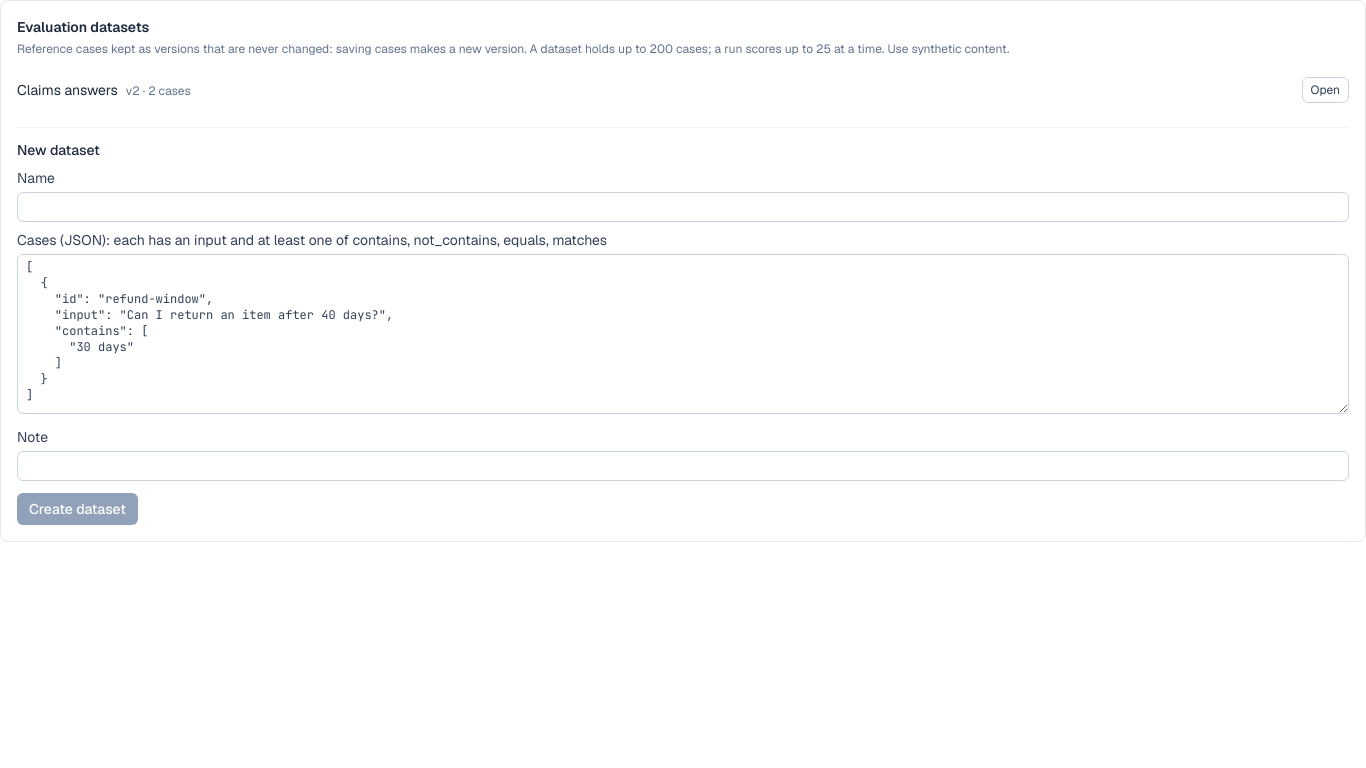
EvalDatasets › offers no run where prompt evaluation is off
Click the button with test id "eval-dataset-open-d1" at [1325, 90], box 1302,77 -> 1349,103
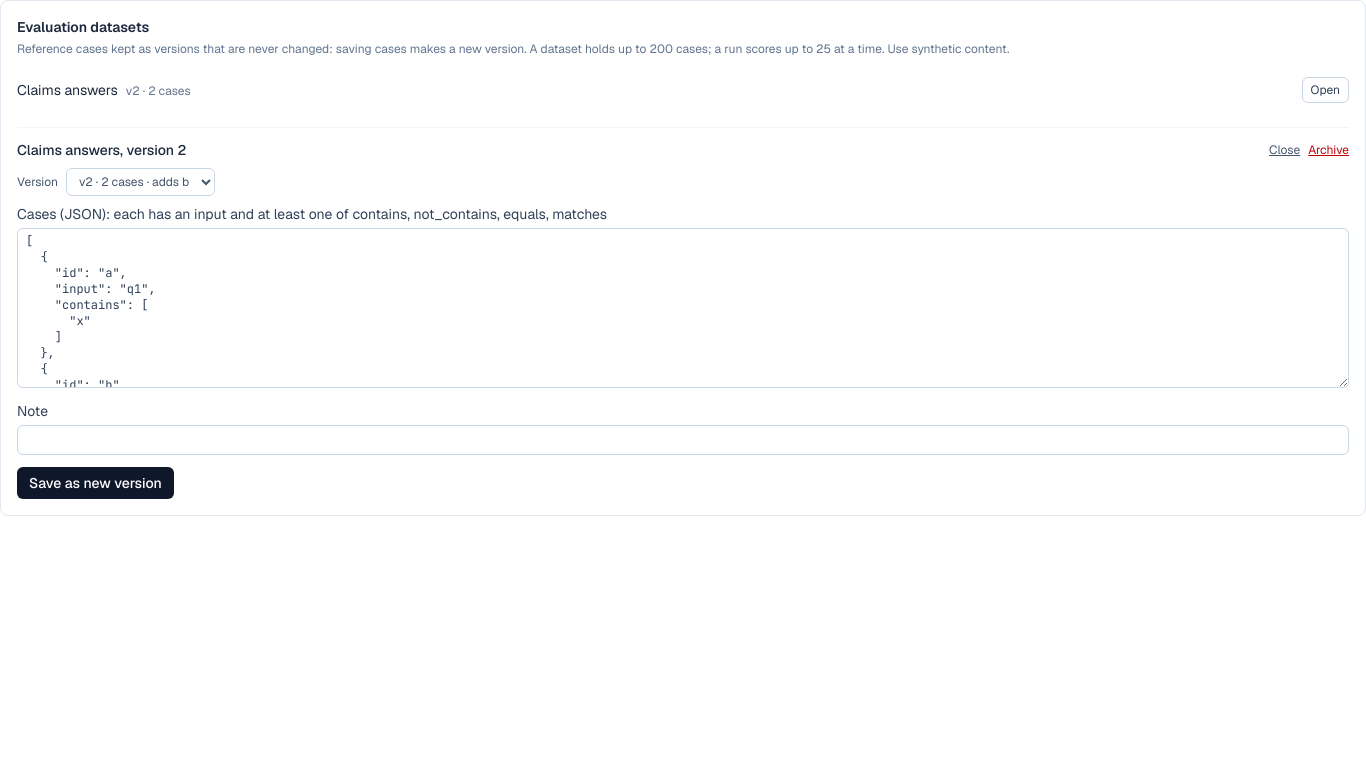
Now the heading with test id "eval-dataset-heading" reads "Claims answers, version 2", box 17,141 -> 186,159
